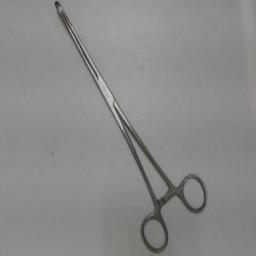Sponge Forceps: (53, 1, 211, 253)
